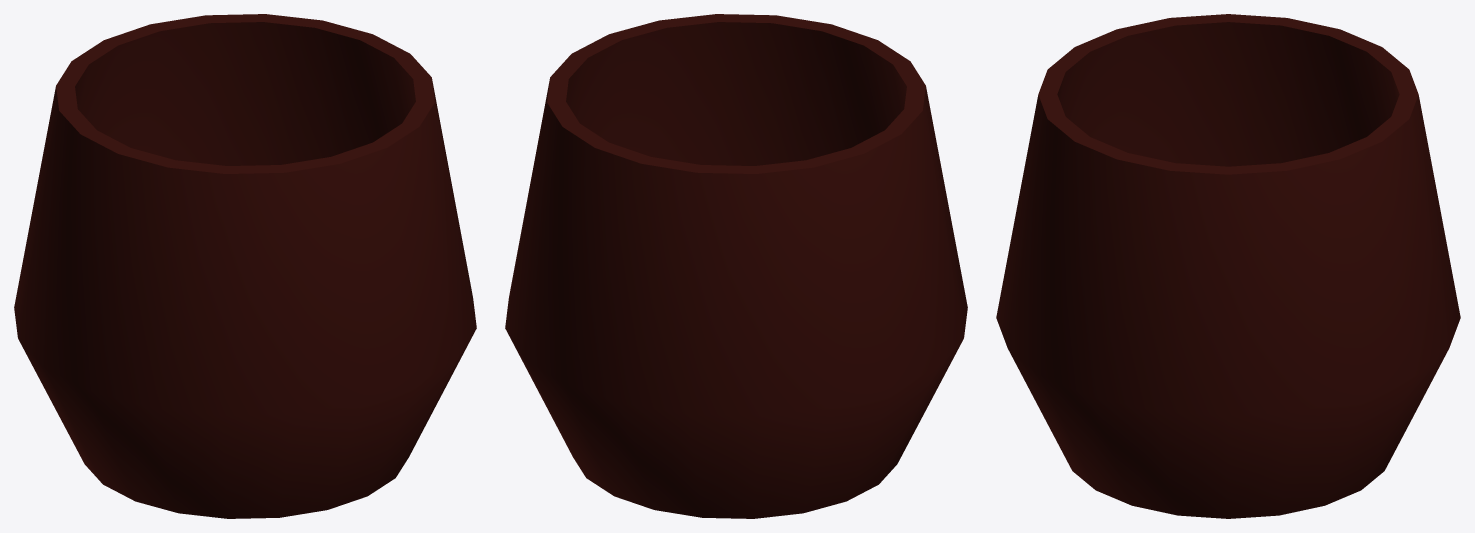
The model's file is cup.obj.
3 views of the same model, side by side, from view 1: azimuth 30°, elevation 25°; view 2: azimuth 150°, elevation 25°; view 3: azimuth 270°, elevation 25° (orthographic).
Parts seen in each view (by area): view 1: pPipe13 cup1; view 2: pPipe13 cup1; view 3: pPipe13 cup1.
Boxes of the visible parts, box(x1,y1,x2,y2) form: pPipe13 cup1: box(14, 14, 476, 518); pPipe13 cup1: box(505, 14, 967, 518); pPipe13 cup1: box(996, 14, 1460, 518).
Bounding box in the file's own units: 0.9563 × 0.8069 × 0.9563.
